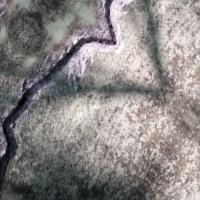crack: (0, 0, 112, 199)
